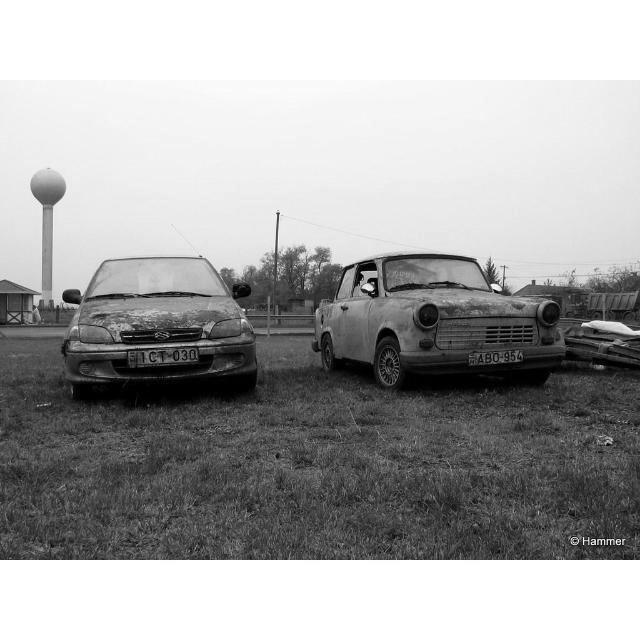bonnet-dent: (78, 293, 243, 343), (392, 280, 556, 317)
front-bumper-dent: (411, 311, 545, 364), (83, 333, 227, 381)
